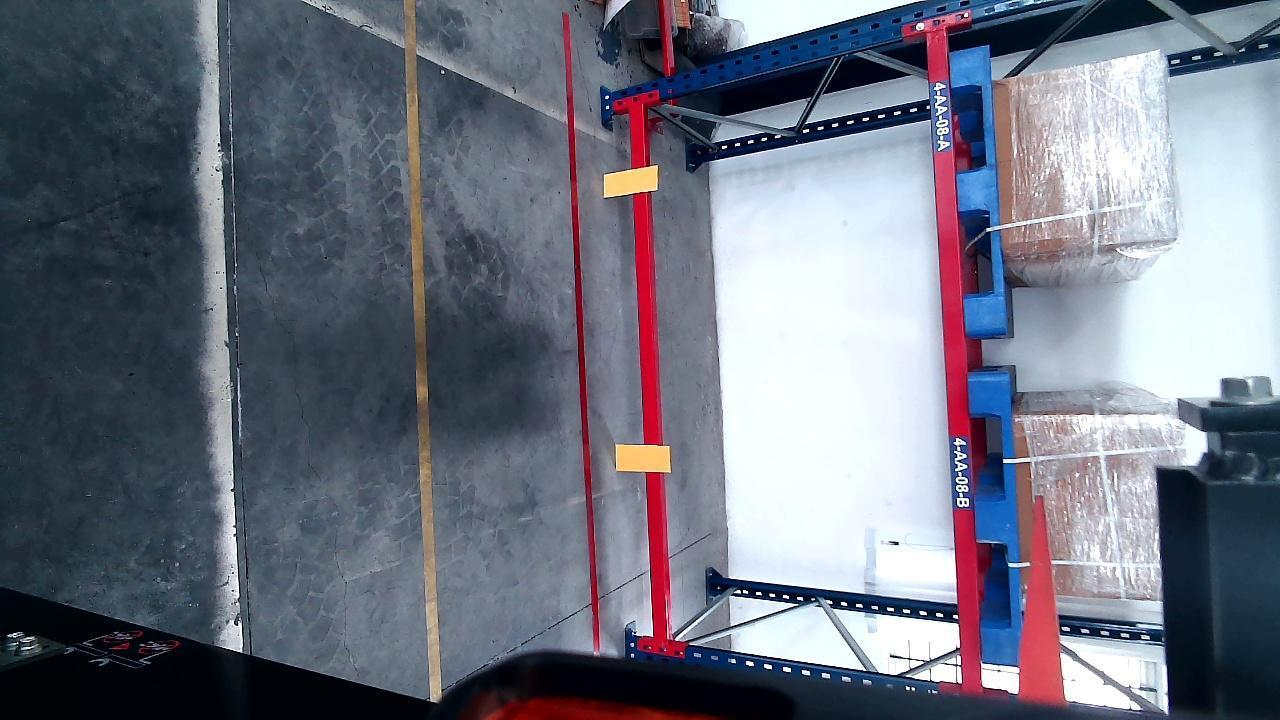h_rack: (926, 19, 986, 687), (621, 101, 677, 631)
orange_strip: (603, 165, 658, 196), (618, 443, 670, 472)
red_line: (556, 13, 600, 650)
small_pallet: (971, 378, 1030, 661), (950, 48, 1004, 330)
yellow_line: (405, 7, 449, 696)
